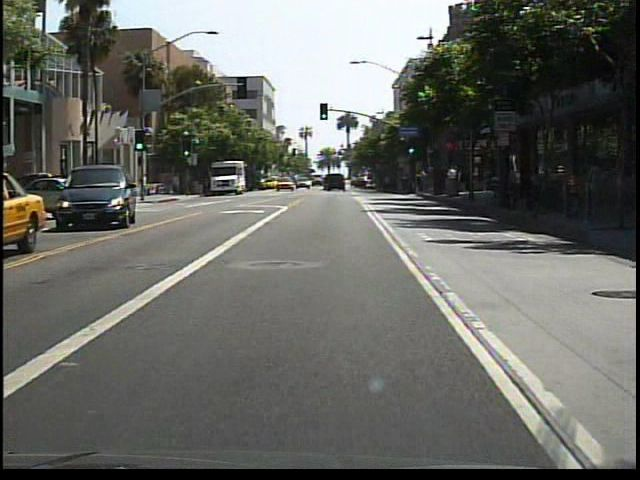person: (169, 169, 183, 196), (162, 172, 174, 195)
